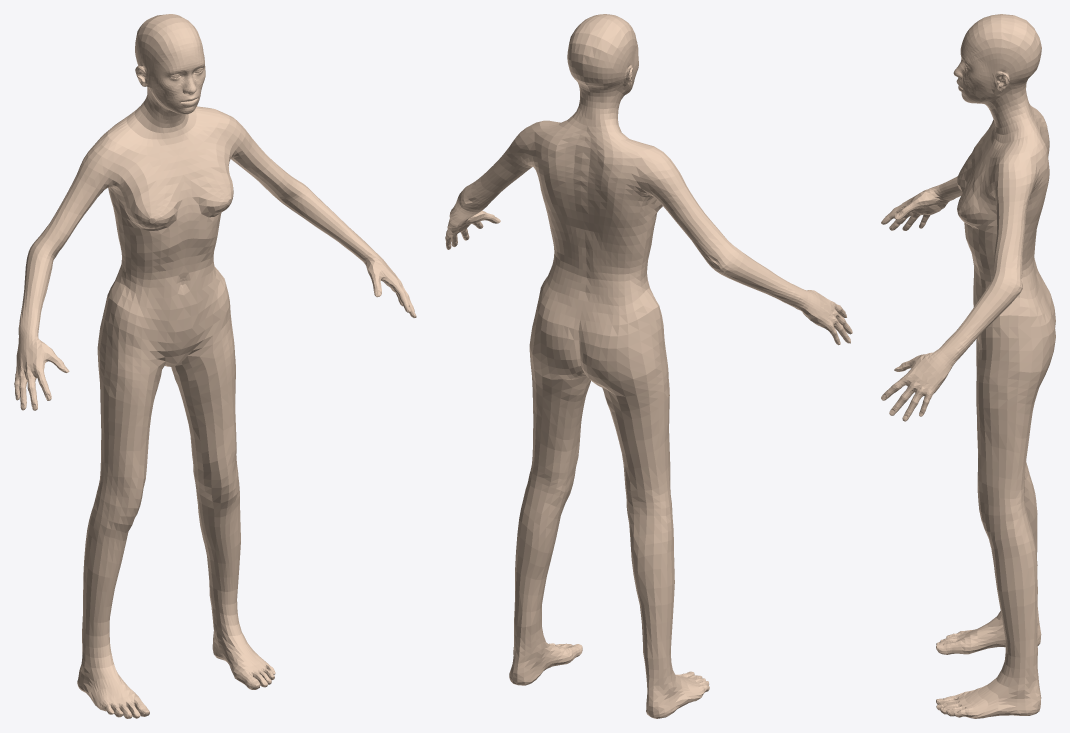
The model's file is female-adult-lean-toned.glb.
3 views of the same model, side by side, from view 1: azimuth 30°, elevation 25°; view 2: azimuth 150°, elevation 25°; view 3: azimuth 270°, elevation 25° (orthographic).
Parts seen in each view (by area): view 1: world; view 2: world; view 3: world.
Boxes of the visible parts, x1,y1,x2,y2 form: world: (14, 14, 416, 718); world: (445, 14, 852, 718); world: (881, 14, 1055, 718).
Bounding box in the file's own units: 1.12 × 1.81 × 0.433.
